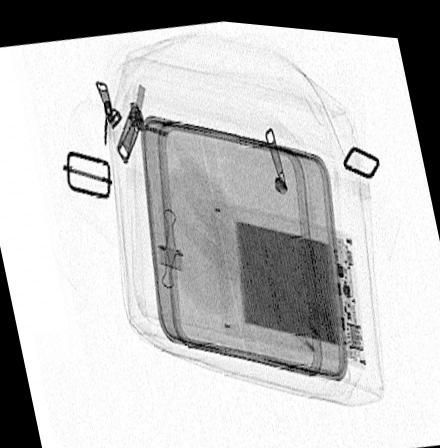Powerbank: (211, 193, 368, 363)
